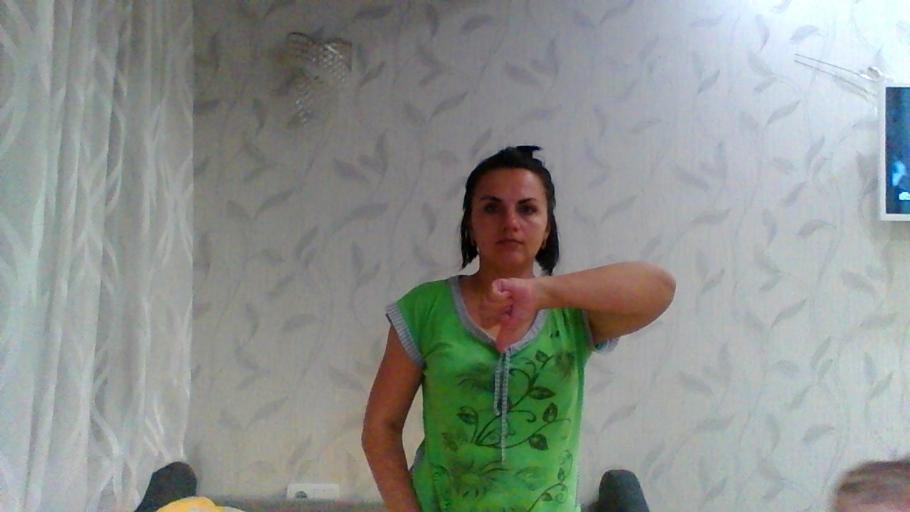dislike: (476, 275, 541, 355)
